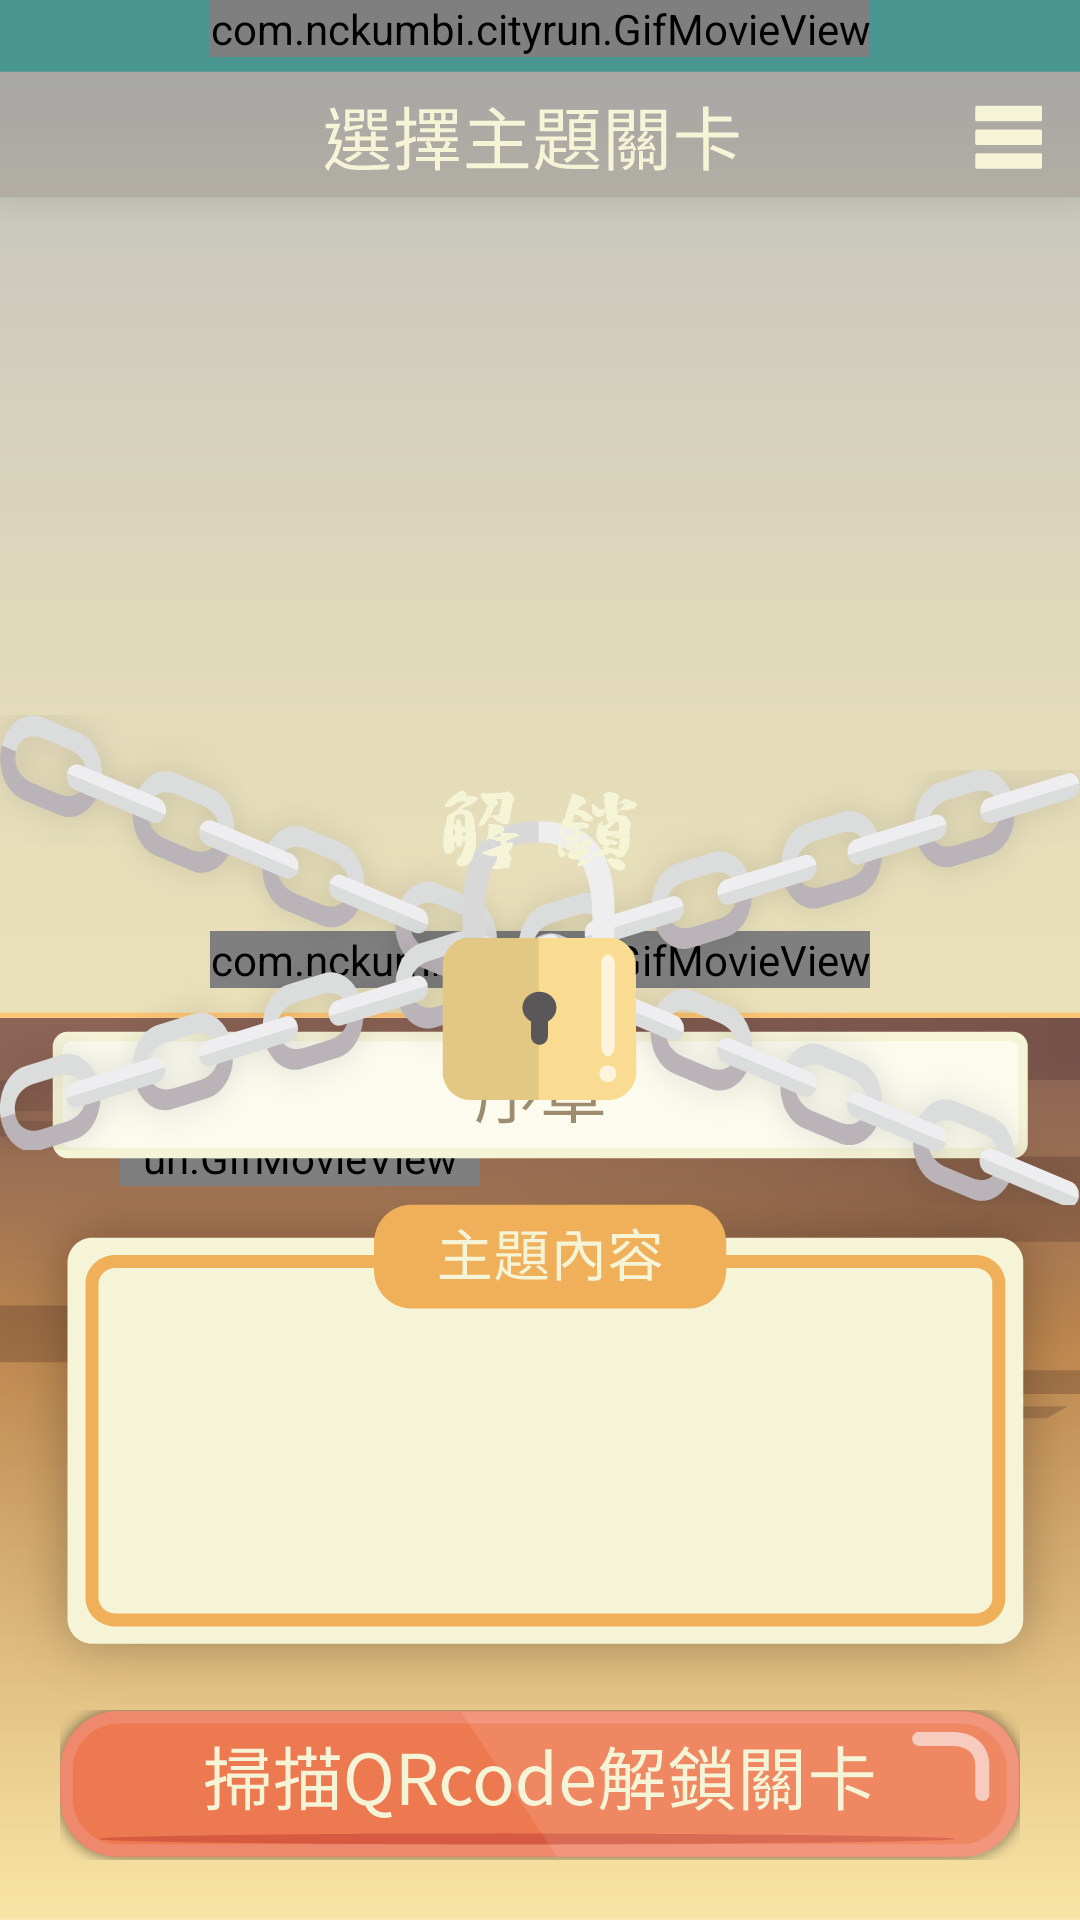

Where icons sit on this 1080×1920 app screen, as (x1, y1, x2, y2):
all menu: (975, 106, 1042, 169)
